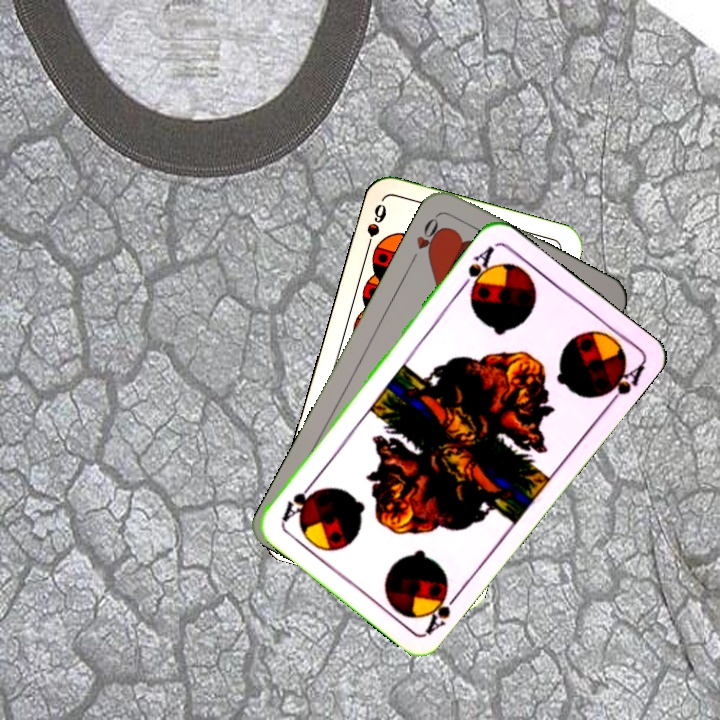HO: (406, 212, 447, 266)
S9: (361, 199, 389, 256)
SA: (420, 583, 464, 637), (456, 241, 497, 298)
